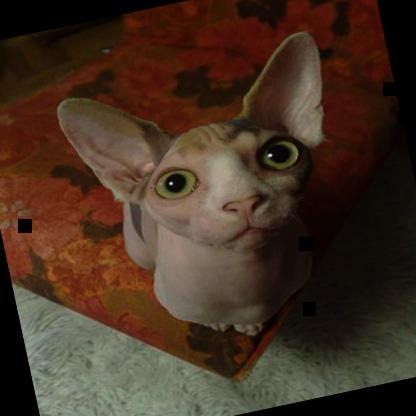cat: (52, 27, 376, 365)
